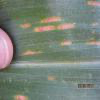Corn Gray leaf spot: (18, 7, 99, 78)
